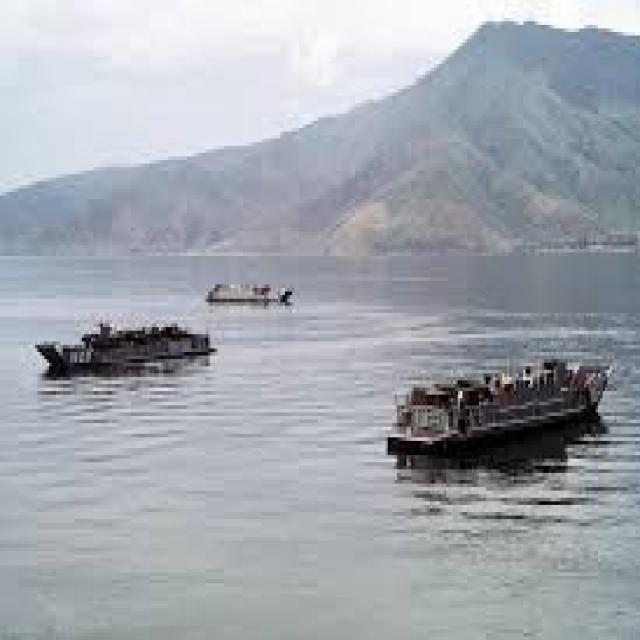fishing boat: (382, 328, 639, 470), (39, 311, 203, 381), (202, 235, 298, 307)
